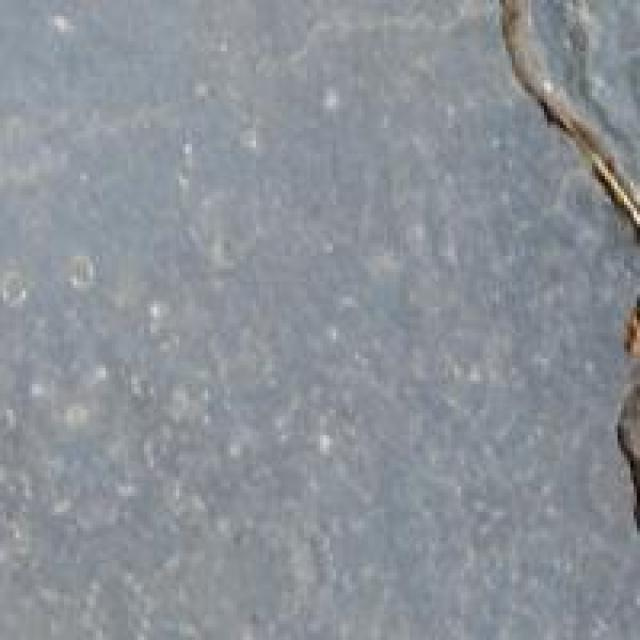Crack: (438, 0, 637, 563)
